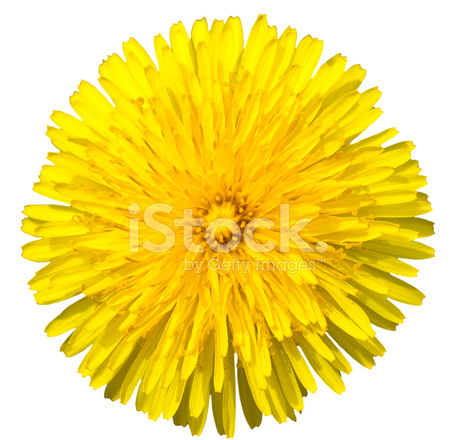dandelion: (29, 40, 429, 440)
